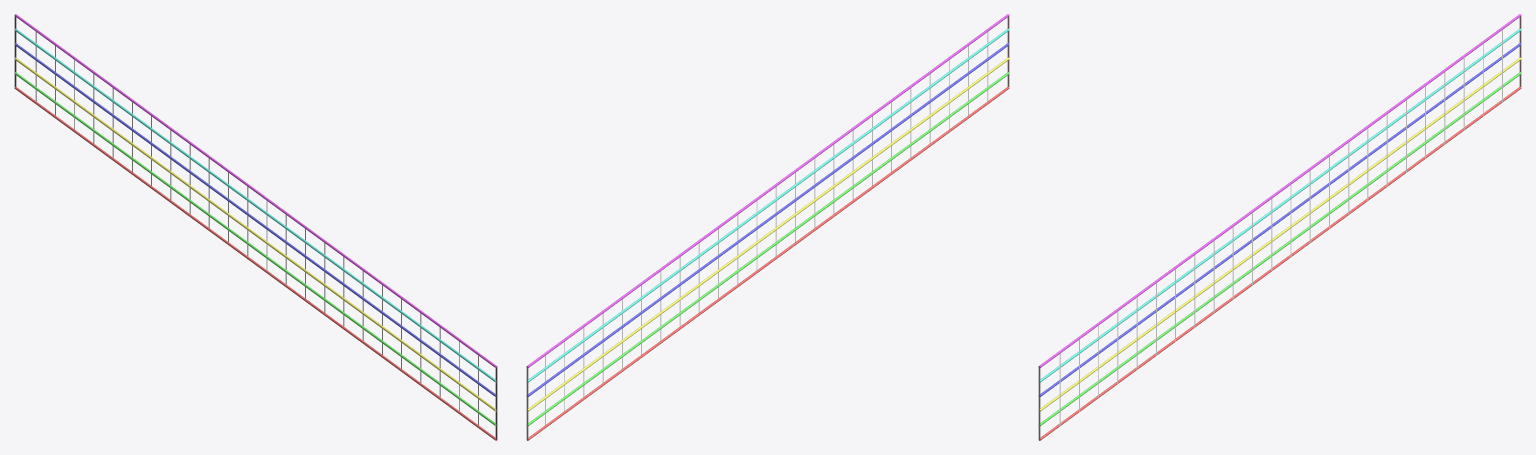
Rendered from guitar_neck.glb.
3 renders of one model, left to right at view 1: azimuth 30°, elevation 25°; view 2: azimuth 150°, elevation 25°; view 3: azimuth 330°, elevation 25°, orthographic.
Parts seen in each view (by area): view 1: String 5, String 3, String 6, String 1, String 2, String 4; view 2: String 5, String 3, String 6, String 1, String 2, String 4; view 3: String 6, String 1, String 3, String 5, String 4, String 2.
Part boxes in pixels (bbox=[...]): String 5: bbox=[14, 28, 497, 382]; String 3: bbox=[14, 57, 496, 411]; String 6: bbox=[14, 14, 497, 367]; String 1: bbox=[14, 87, 496, 440]; String 2: bbox=[14, 72, 496, 426]; String 4: bbox=[14, 43, 496, 396]; String 5: bbox=[526, 28, 1009, 382]; String 3: bbox=[527, 57, 1009, 411]; String 6: bbox=[526, 14, 1009, 367]; String 1: bbox=[527, 87, 1009, 440]; String 2: bbox=[527, 72, 1009, 426]; String 4: bbox=[527, 43, 1009, 396]; String 6: bbox=[1038, 14, 1521, 367]; String 1: bbox=[1039, 87, 1521, 440]; String 3: bbox=[1039, 57, 1521, 411]; String 5: bbox=[1038, 28, 1521, 382]; String 4: bbox=[1039, 43, 1521, 396]; String 2: bbox=[1039, 72, 1521, 426].
Bounding box in the file's own units: 0.09 × 2.58 × 30.1.
